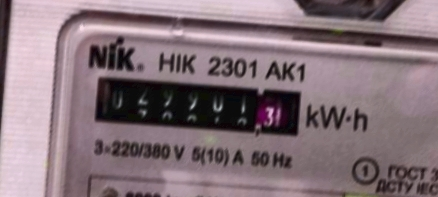0: (208, 87, 224, 113), (107, 85, 123, 108)
1: (235, 89, 248, 114)
2: (133, 82, 150, 105)
3: (259, 103, 275, 127)
9: (184, 87, 197, 111), (159, 84, 173, 106)
screen: (84, 67, 309, 145)
